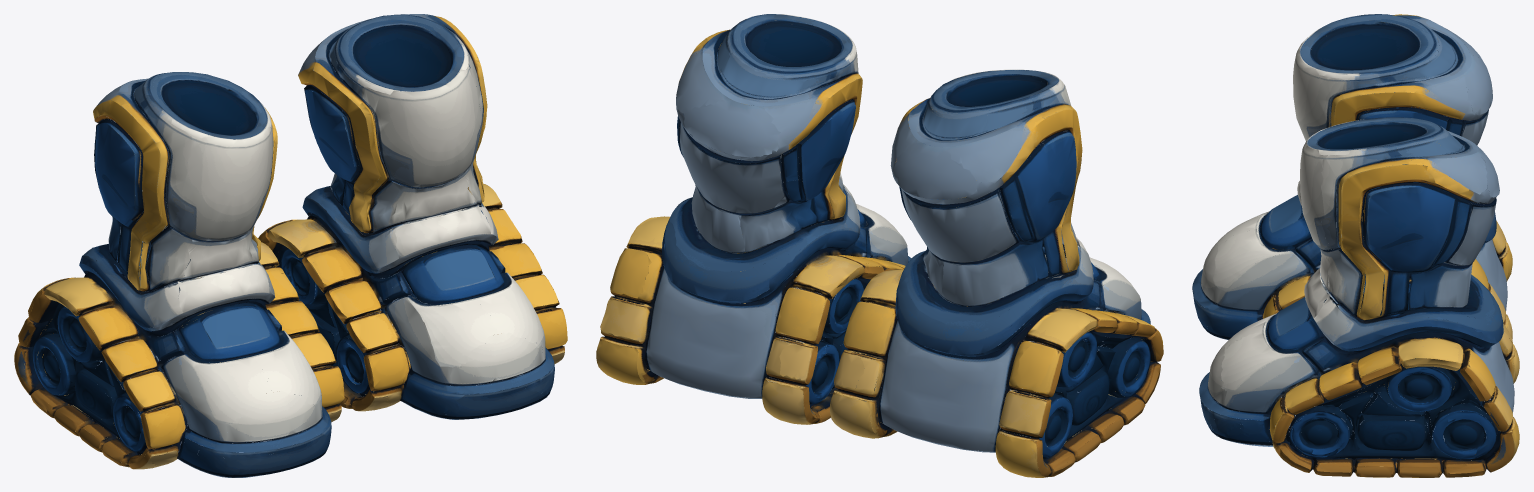
File: rover-leg-final-shrunk (1).glb
3 views of the same model, side by side, from view 1: azimuth 30°, elevation 25°; view 2: azimuth 150°, elevation 25°; view 3: azimuth 270°, elevation 25° (orthographic). The views are drawn at different scales.
Parts seen in each view (by area): view 1: legR, legL; view 2: legR, legL; view 3: legL, legR.
Boxes of the visible parts, left/top/right/bottom form: legR: left=14, top=72, right=344, bottom=477; legL: left=258, top=14, right=567, bottom=419; legR: left=830, top=69, right=1163, bottom=477; legL: left=596, top=14, right=911, bottom=424; legL: left=1199, top=117, right=1519, bottom=477; legR: left=1192, top=14, right=1512, bottom=339.
Bounding box in the file's own units: 0.5882 × 0.426 × 0.4135.
2 materials, 2 textured.
